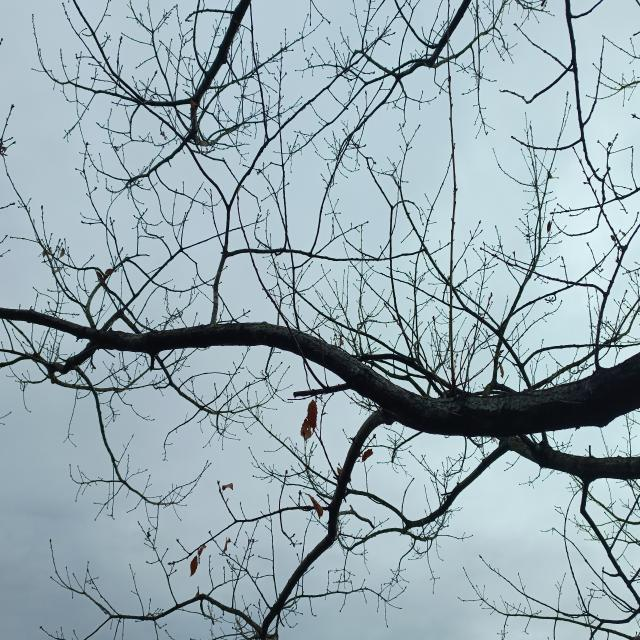Branch: (0, 308, 640, 438), (499, 436, 640, 479)
Twig: (125, 411, 393, 640), (348, 445, 504, 532), (5, 344, 95, 384)
